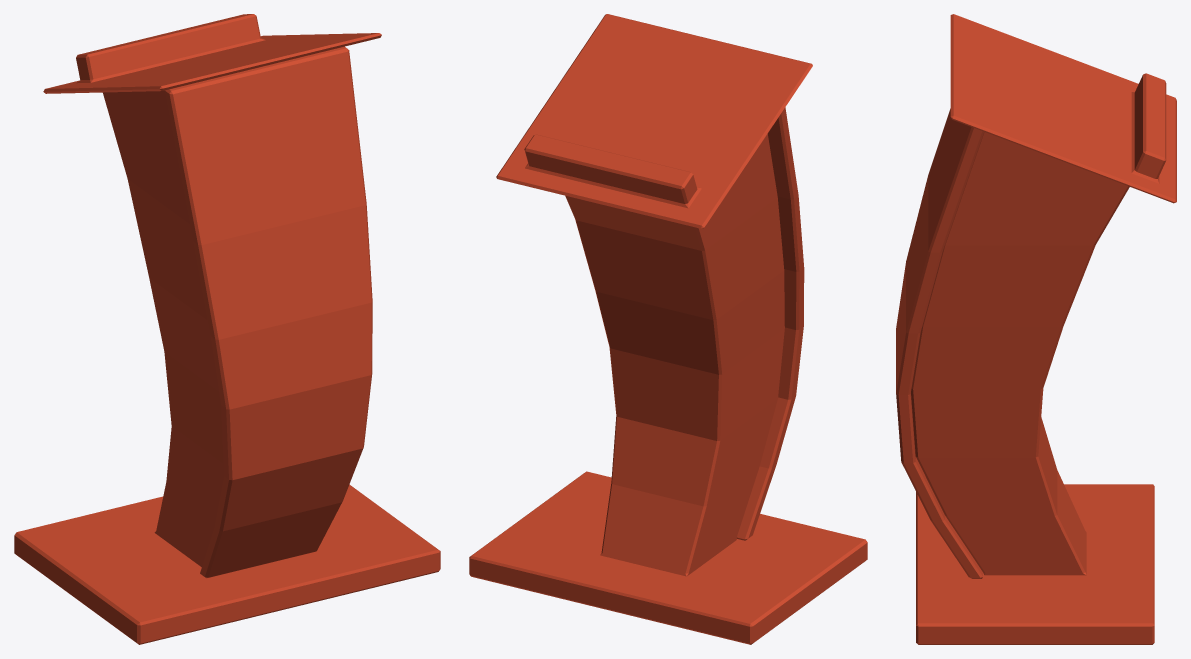
Rendered from podium.blend1.fbx.
3 renders of one model, left to right at view 1: azimuth 30°, elevation 25°; view 2: azimuth 150°, elevation 25°; view 3: azimuth 270°, elevation 25°, orthographic. The views are drawn at different scales.
Visible parts, largest first — view 1: Plane; view 2: Plane; view 3: Plane.
Part boxes in pixels (box(x1,y1,x2,y2)): Plane: box(14, 14, 440, 644); Plane: box(469, 14, 867, 644); Plane: box(896, 14, 1176, 644).
Size of the model in its own units: 70 by 118 by 58.81.
